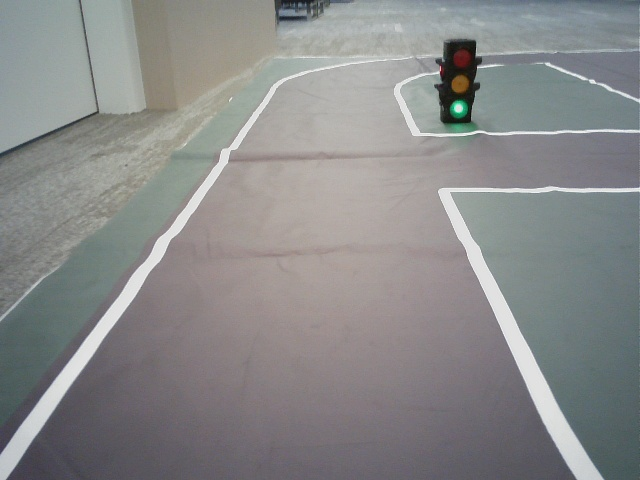green: (444, 45, 473, 119)
